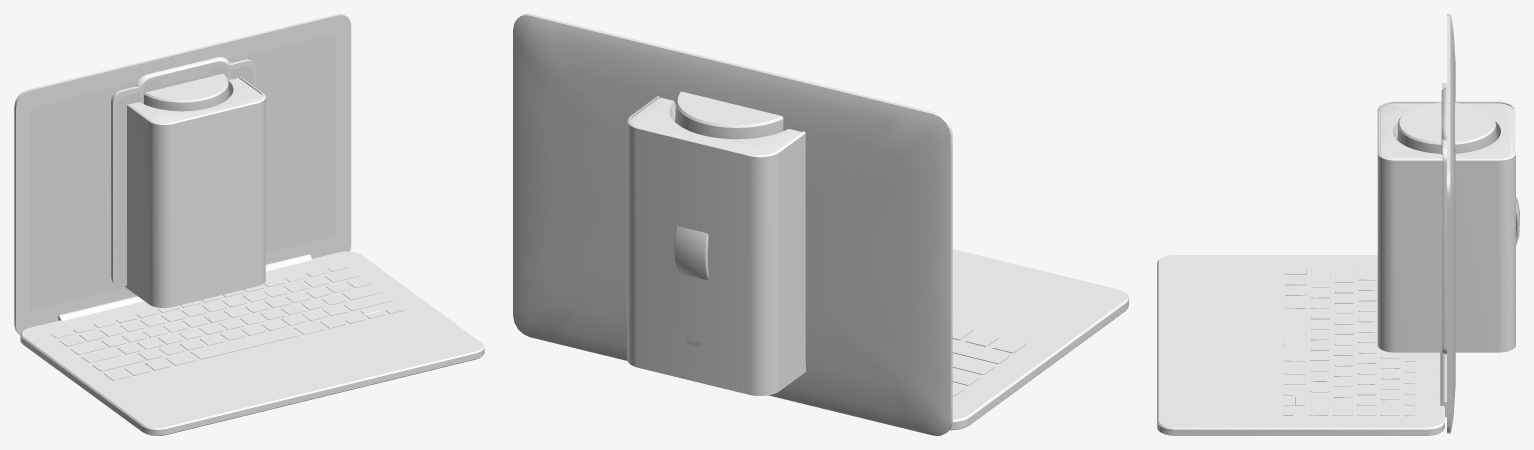
3 renders of one model, left to right at view 1: azimuth 30°, elevation 25°; view 2: azimuth 150°, elevation 25°; view 3: azimuth 270°, elevation 25°, orthographic. The views are drawn at different scales.
Parts seen in each view (by area): view 1: pNotebook, pVoiceStation, pIpad, pPhone; view 2: pNotebook, pVoiceStation, pWatch; view 3: pNotebook, pVoiceStation, pIpad.
Boxes of the visible parts, x1,y1,x2,y2 form: pNotebook: [14, 14, 484, 435]; pVoiceStation: [125, 73, 265, 307]; pIpad: [111, 59, 256, 286]; pPhone: [135, 57, 230, 103]; pNotebook: [513, 14, 1128, 435]; pVoiceStation: [627, 91, 806, 395]; pWatch: [674, 226, 708, 279]; pNotebook: [1157, 14, 1455, 435]; pVoiceStation: [1377, 101, 1515, 352]; pIpad: [1442, 83, 1446, 354].
Size of the model in its own units: 1.9 by 1.33 by 1.67.
Materials: 5 (5 with a texture image).
